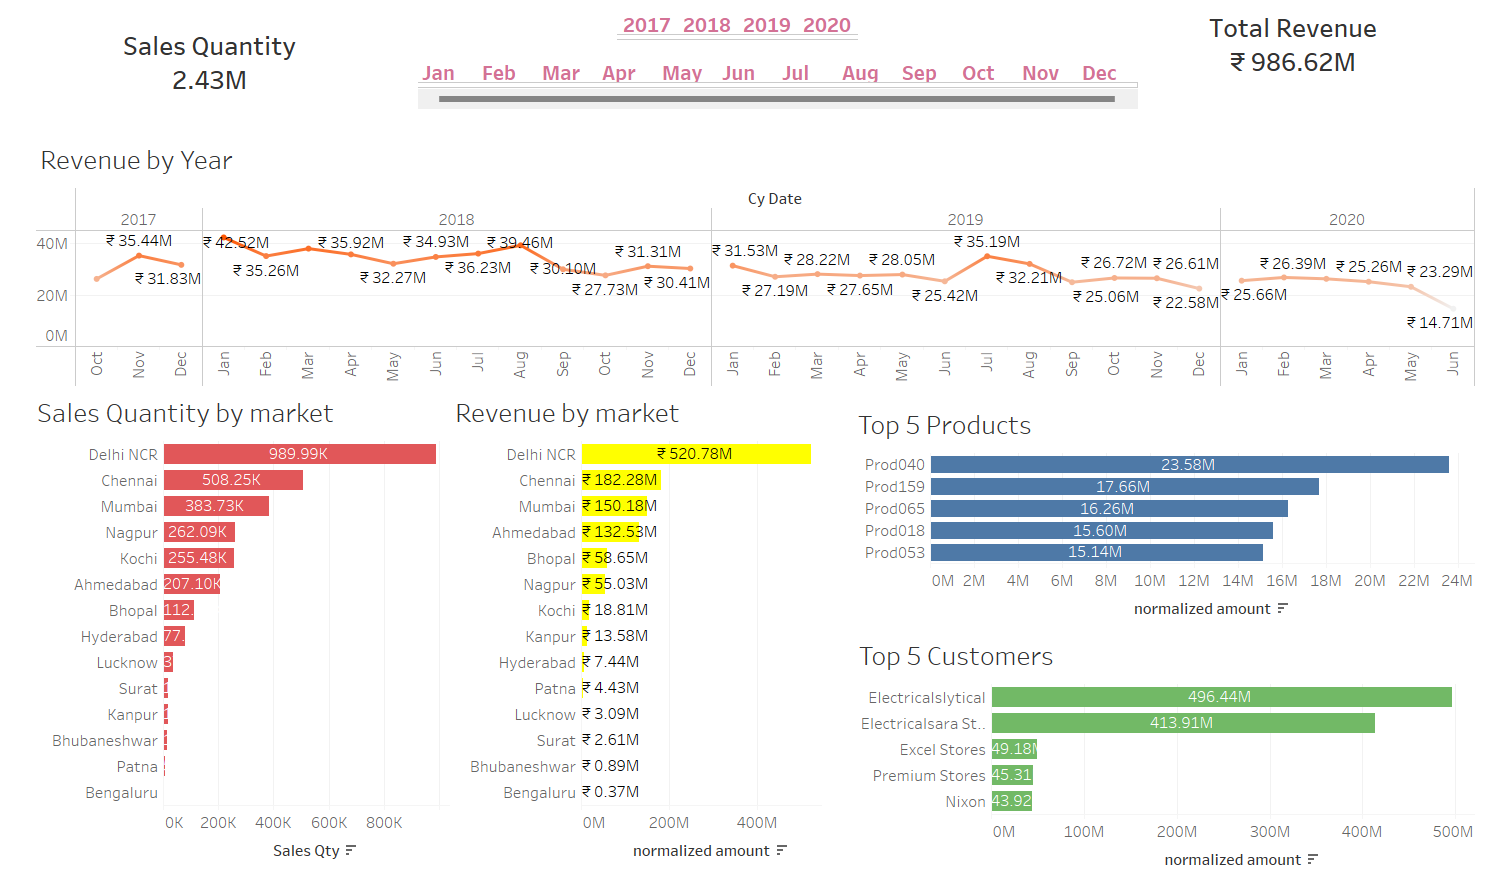

What the dashboard file says about the page in this screenshot:
{"tool":"tableau","page":{"name":"Dashboard 1","canvas":[1500,900],"ordinal":0},"visuals":[{"type":"worksheet","title":"Year","mark":"Automatic","cols":["cy_date"],"box":[624,36,264,34]},{"type":"worksheet","title":"Month","mark":"Automatic","cols":["cy_date"],"box":[425,84,720,50]},{"type":"worksheet","title":"Revenue by Year","mark":"Automatic","rows":["Calculation_788974370706759680"],"cols":["cy_date","cy_date"],"box":[349,160,1143,249]},{"type":"worksheet","title":"Quantity","mark":"Automatic","box":[99,177,205,79]},{"type":"worksheet","title":"Revenue","mark":"Automatic","box":[102,292,234,97]},{"type":"worksheet","title":"Sales Quantity by market","mark":"Automatic","rows":["markets_name"],"cols":["sales_qty"],"box":[40,413,417,486]},{"type":"worksheet","title":"Revenue by market","mark":"Automatic","rows":["markets_name"],"cols":["Calculation_788974370706759680"],"box":[458,413,371,487]},{"type":"worksheet","title":"Top 5 Products","mark":"Automatic","rows":["product_code (products)"],"cols":["Calculation_788974370706759680"],"box":[860,431,621,224]},{"type":"worksheet","title":"Top 5 Customers","mark":"Automatic","rows":["custmer_name"],"cols":["Calculation_788974370706759680"],"box":[862,656,620,248]}]}

Visuals, with their boxes in screenshot pixels (x1, y1, x2, y2), scaled from the page's 1500x900 canvas onto the 1487x872 screenshot:
"Year" worksheet: (619, 35, 880, 68)
"Month" worksheet: (421, 81, 1135, 130)
"Revenue by Year" worksheet: (346, 155, 1479, 396)
"Quantity" worksheet: (98, 171, 301, 248)
"Revenue" worksheet: (101, 283, 333, 377)
"Sales Quantity by market" worksheet: (40, 400, 453, 871)
"Revenue by market" worksheet: (454, 400, 822, 871)
"Top 5 Products" worksheet: (853, 418, 1468, 635)
"Top 5 Customers" worksheet: (855, 636, 1469, 871)
